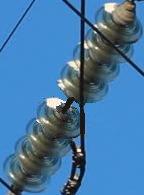gap: (34, 59, 108, 138)
